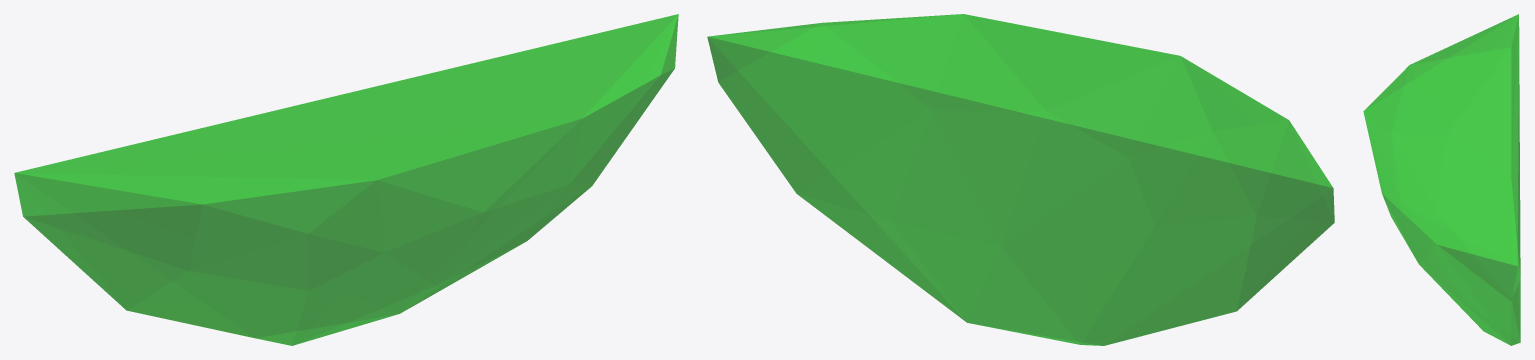
The picture shows the model from 3 angles, left to right: view 1: azimuth 30°, elevation 25°; view 2: azimuth 150°, elevation 25°; view 3: azimuth 270°, elevation 25°; orthographic projection. The views are drawn at different scales.
Parts seen in each view (by area): view 1: Shape_IndexedFaceSet.034_Shape_IndexedFaceSet.075; view 2: Shape_IndexedFaceSet.034_Shape_IndexedFaceSet.075; view 3: Shape_IndexedFaceSet.034_Shape_IndexedFaceSet.075.
Part boxes in pixels (<box>): Shape_IndexedFaceSet.034_Shape_IndexedFaceSet.075: <box>14,14,678,345</box>; Shape_IndexedFaceSet.034_Shape_IndexedFaceSet.075: <box>707,14,1334,345</box>; Shape_IndexedFaceSet.034_Shape_IndexedFaceSet.075: <box>1363,14,1520,345</box>.
Bounding box in the file's own units: 0.4914 × 0.1687 × 0.1303.
